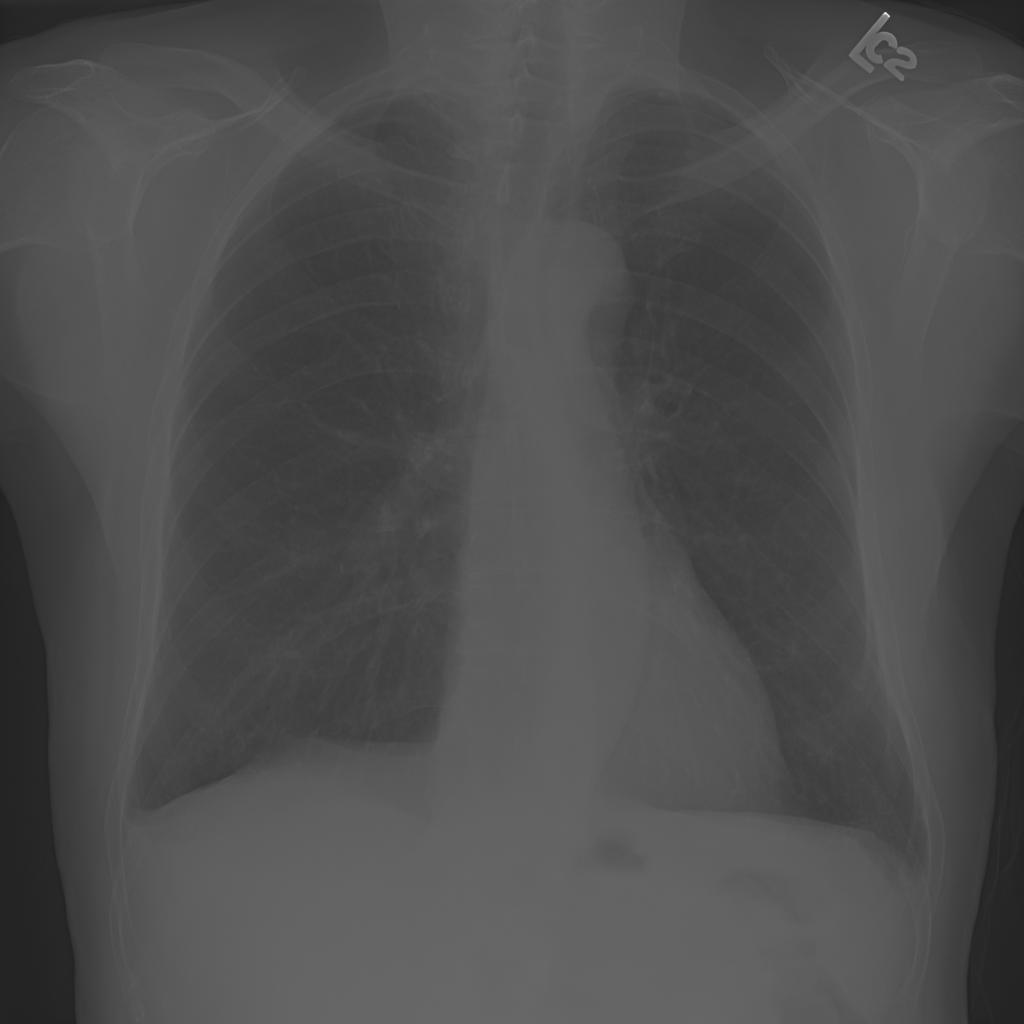Nodule: (135, 180, 171, 225)
